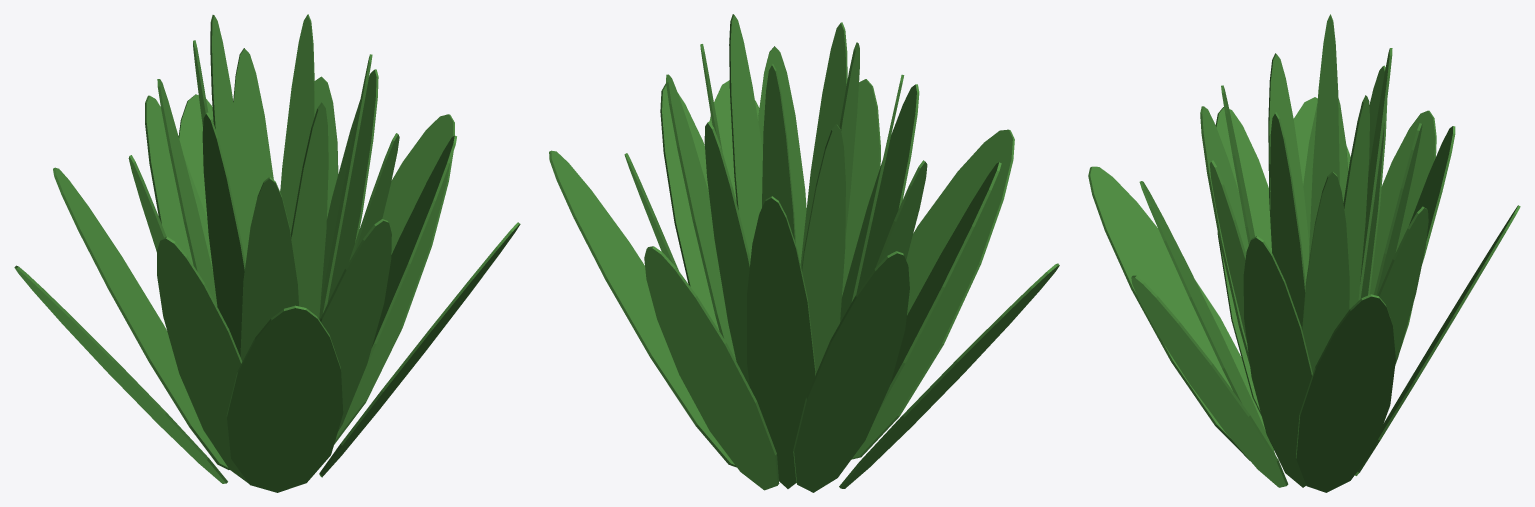
File: grass.obj
The picture shows the model from 3 angles, left to right: view 1: azimuth 30°, elevation 25°; view 2: azimuth 150°, elevation 25°; view 3: azimuth 270°, elevation 25°; orthographic projection. The views are drawn at different scales.
Visible parts, largest first — view 1: grass_array01; view 2: grass_array01; view 3: grass_array01.
Part boxes in pixels (x1=…): grass_array01: x1=14, y1=14, x2=520, y2=492; grass_array01: x1=549, y1=14, x2=1059, y2=492; grass_array01: x1=1088, y1=14, x2=1520, y2=492.
Size of the model in its own units: 3.25 by 2.97 by 2.73.
1 material, 1 textured.
